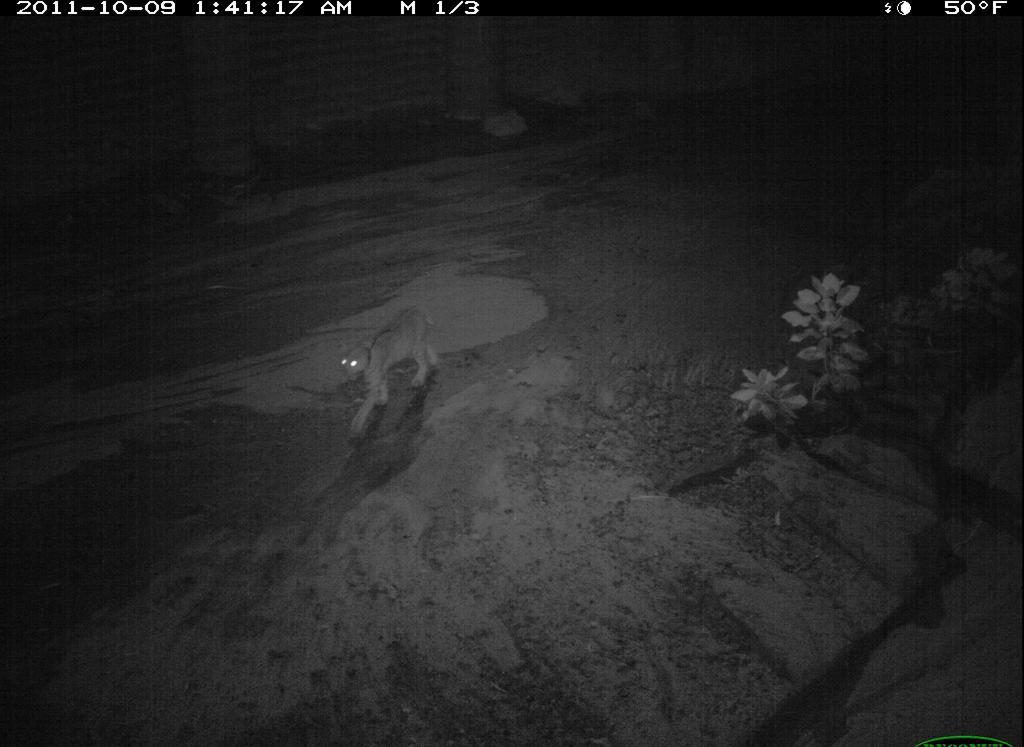bobcat: (332, 297, 445, 438)
